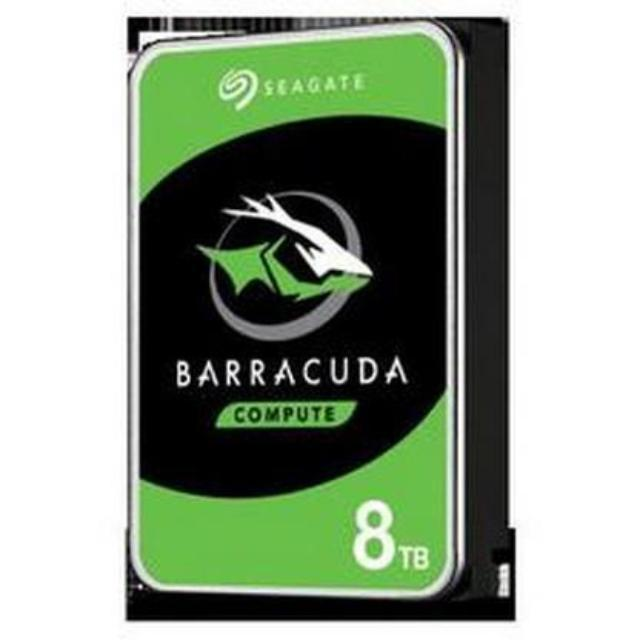DISK: (118, 8, 520, 622)
